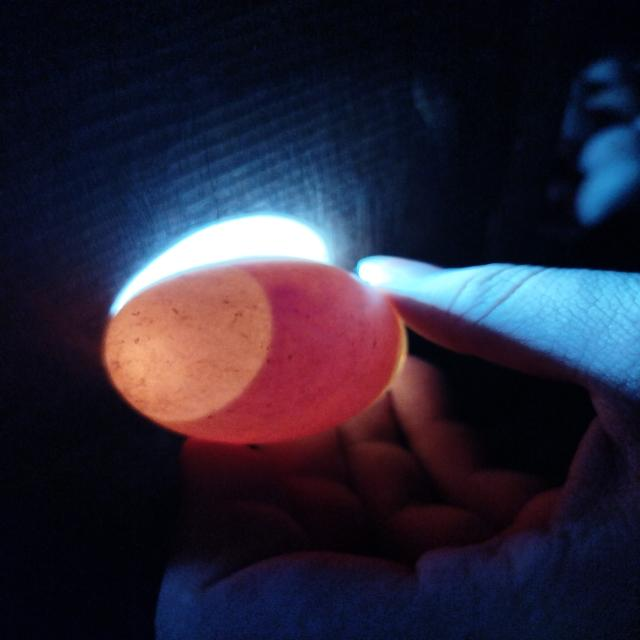Camara de Ar: (104, 263, 269, 422)
Gema Quebrada: (152, 259, 400, 445)
